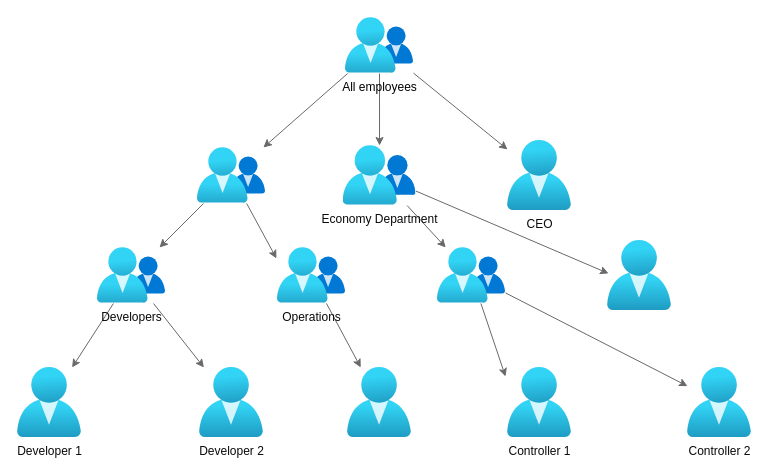
This 769x475 diagram has some shape labels left out. The shapes that lost their labels are listed below. From the top down, each one's centre as x and y in pixels, then its label:
the point at 231,175: IT
the point at 471,275: Billing team
the point at 639,275: Department Head
the point at 379,402: Sysadmin
